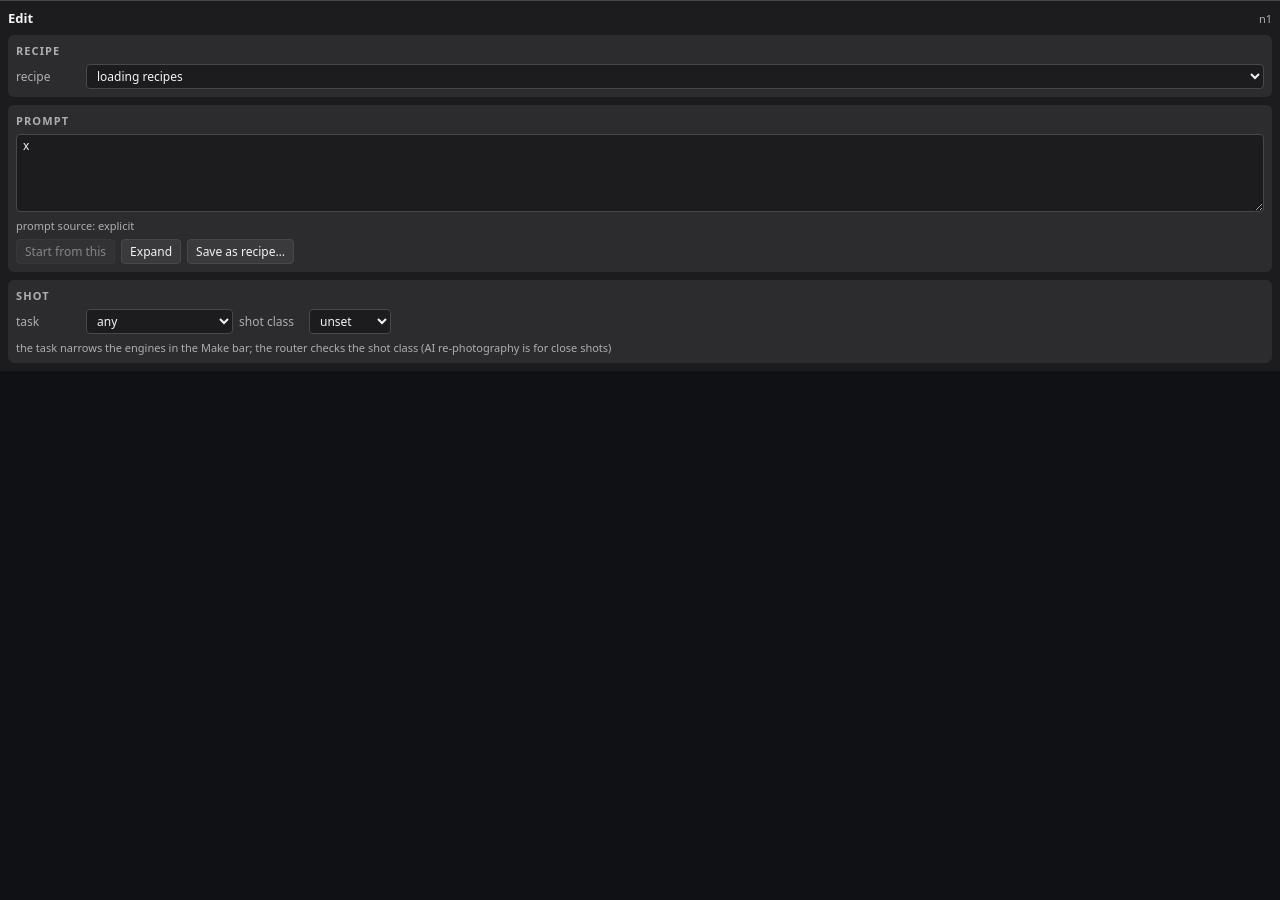
Save as recipe › needs an engine from the Make bar and can be cancelled
Click the button with test id "edit-save-recipe" at (240, 252), box [187, 239, 294, 264]
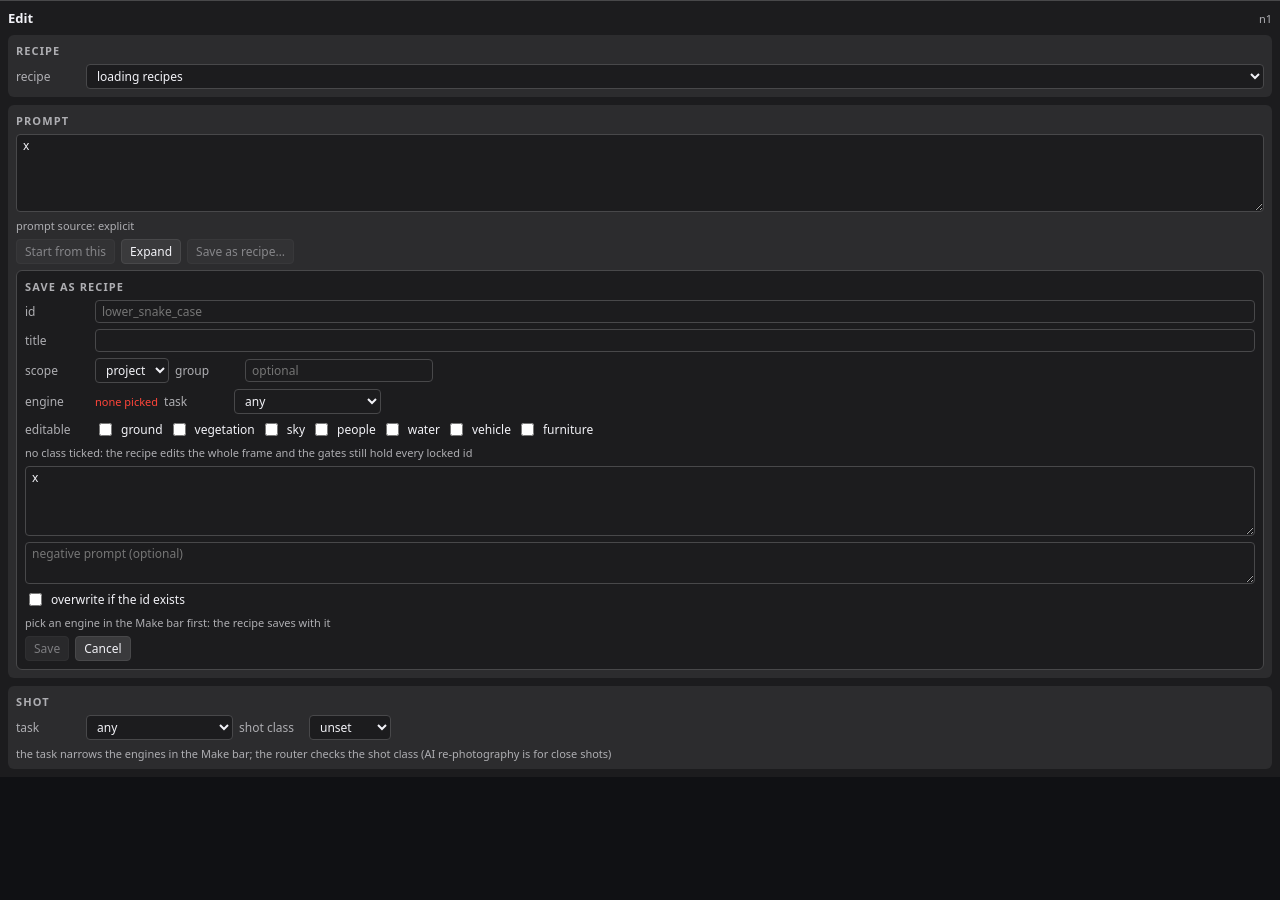
expect the text with test id "save-recipe-engine" reads "none picked": met, box [95, 394, 158, 409]
Type "ok_id" into the field with test id "save-recipe-id" at (675, 312), box [95, 300, 1255, 323]
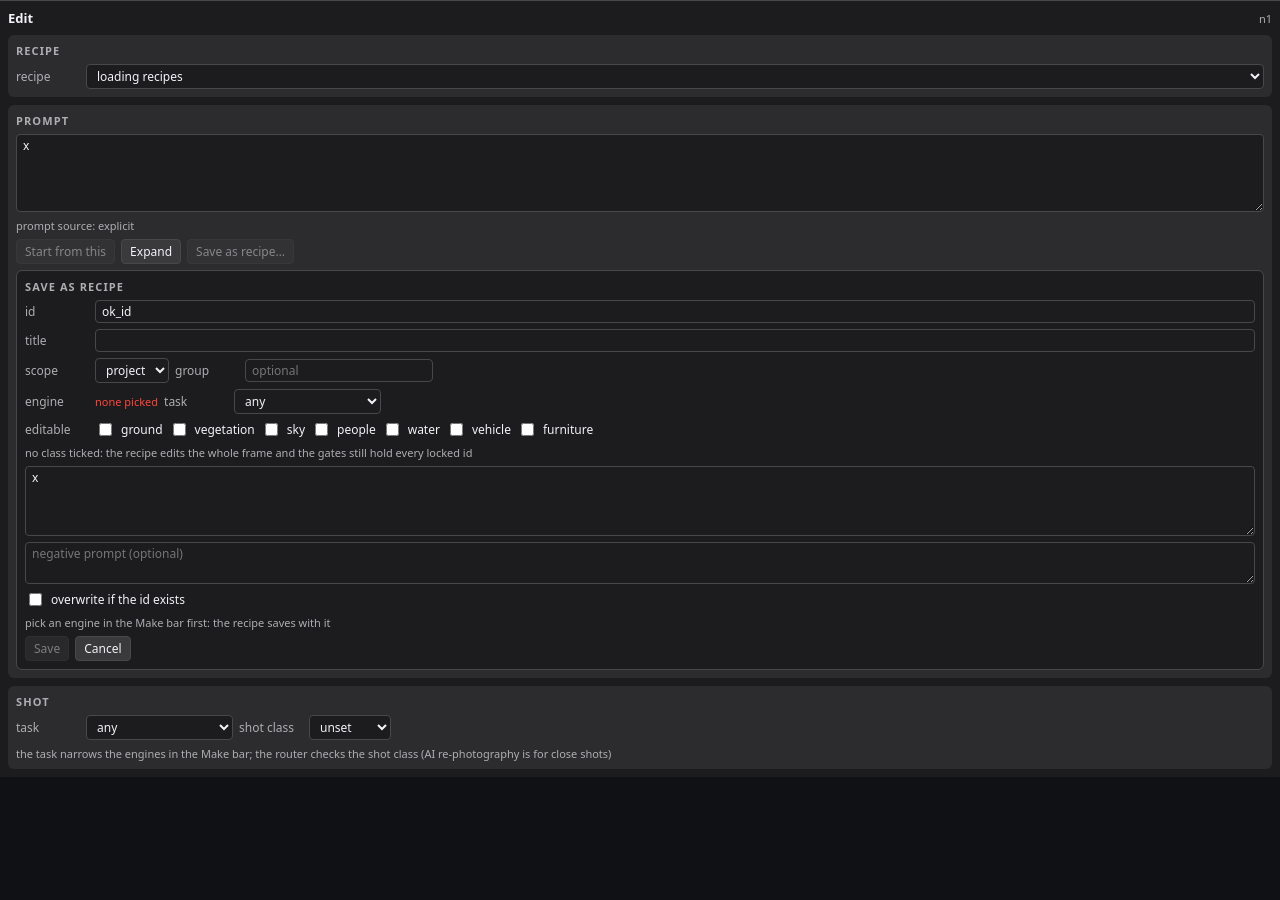
Type "Ok" into the field with test id "save-recipe-title" at (675, 340), box [95, 329, 1255, 352]
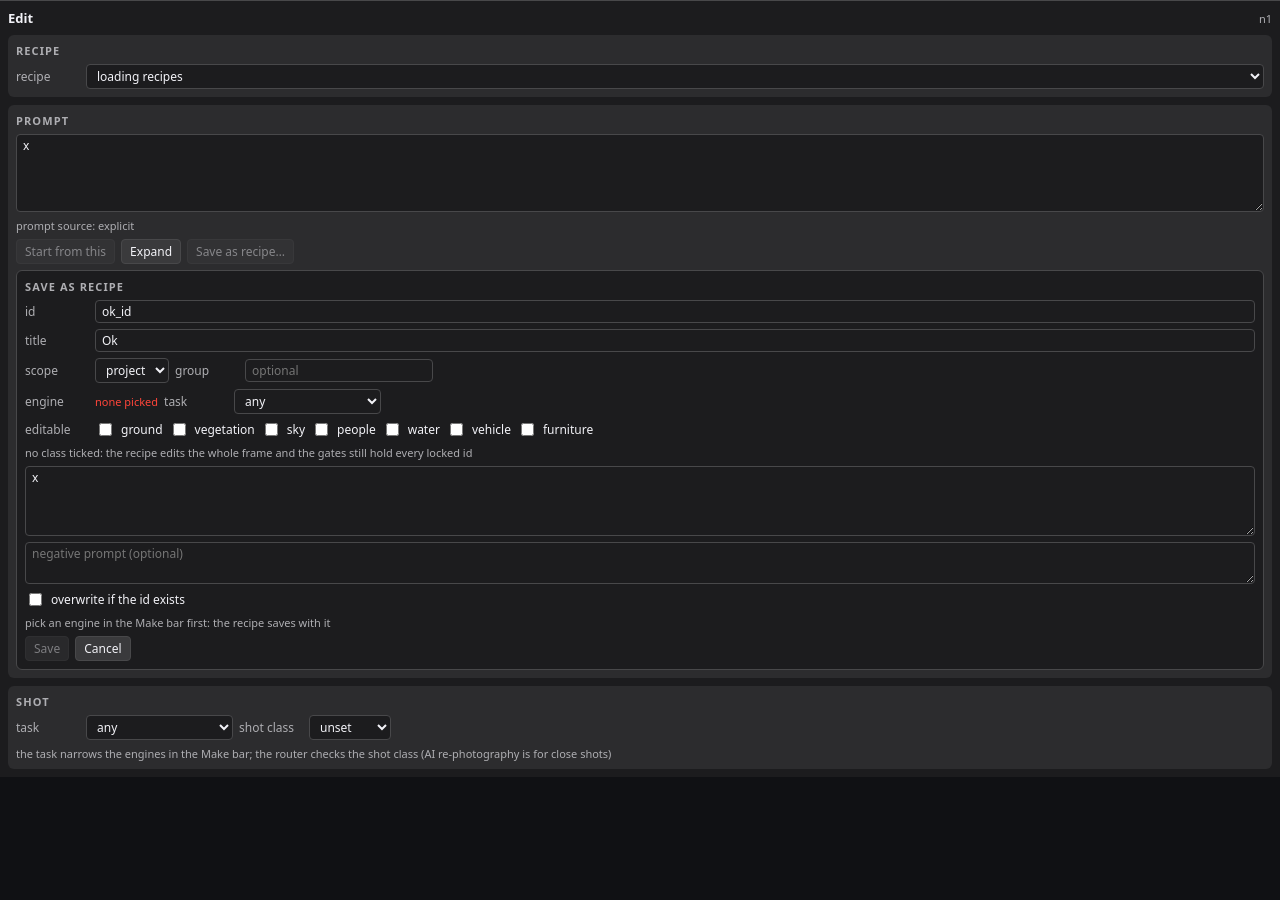
expect the button with test id "save-recipe-submit" is disabled: met, box [25, 636, 69, 661]
expect the text with test id "save-recipe-problem" shows "Make bar": met, box [25, 615, 330, 630]
Click the button with test id "save-recipe-cancel" at (103, 648), box [75, 636, 131, 661]
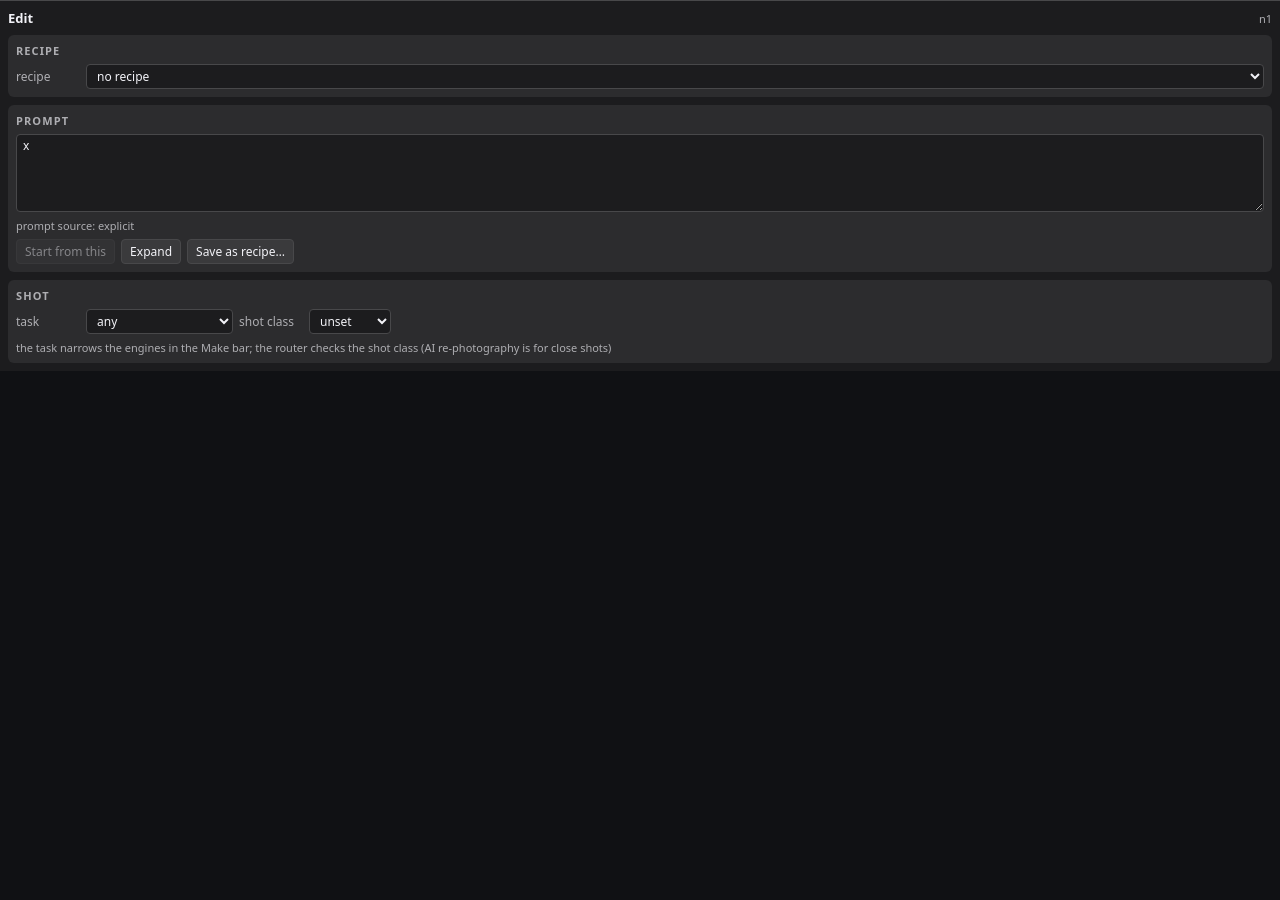
expect the dialog with test id "save-recipe" is gone: met
